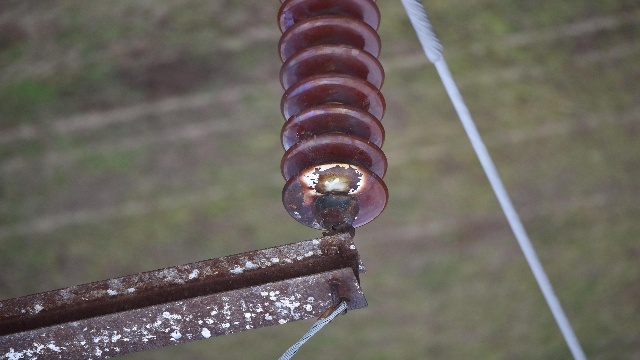insulator_unspecified: (277, 0, 388, 229)
pollution_flashover_local: (299, 163, 370, 206)
